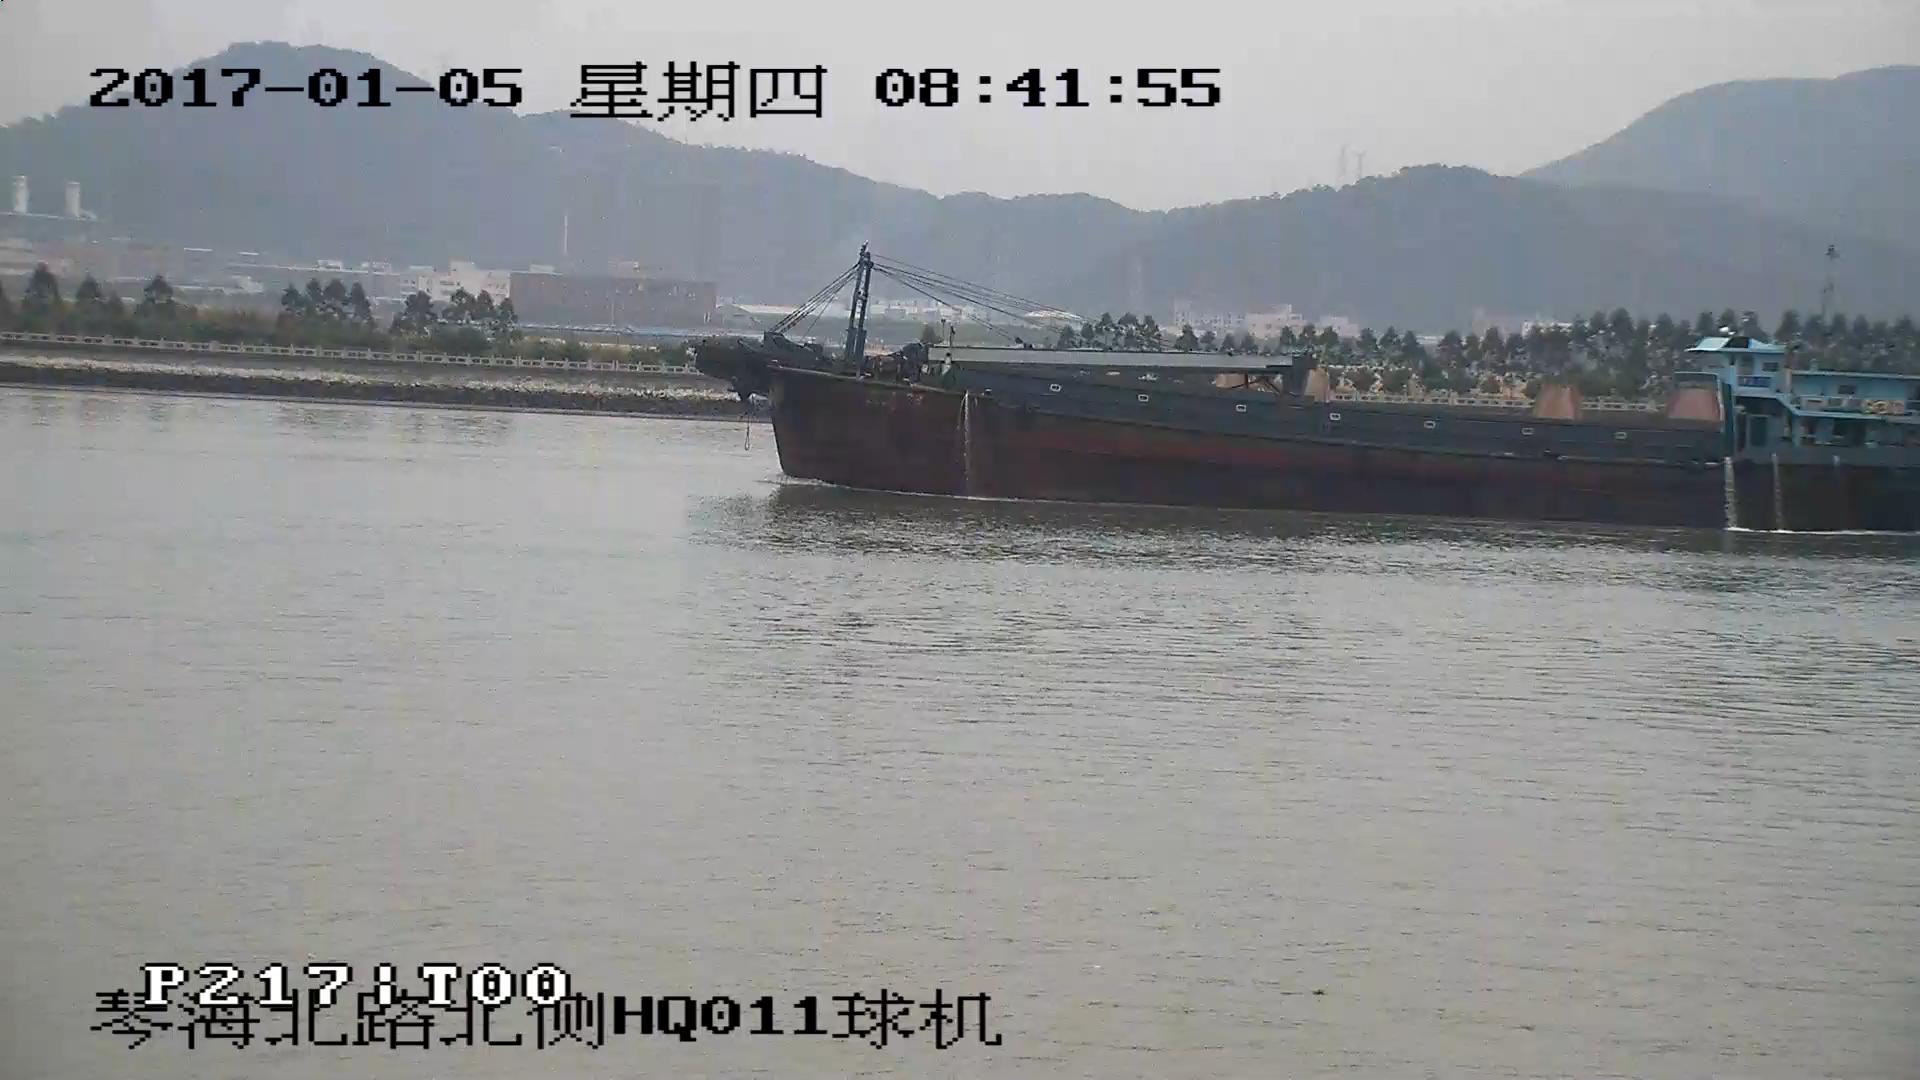bulk cargo carrier: (691, 249, 1920, 532)
